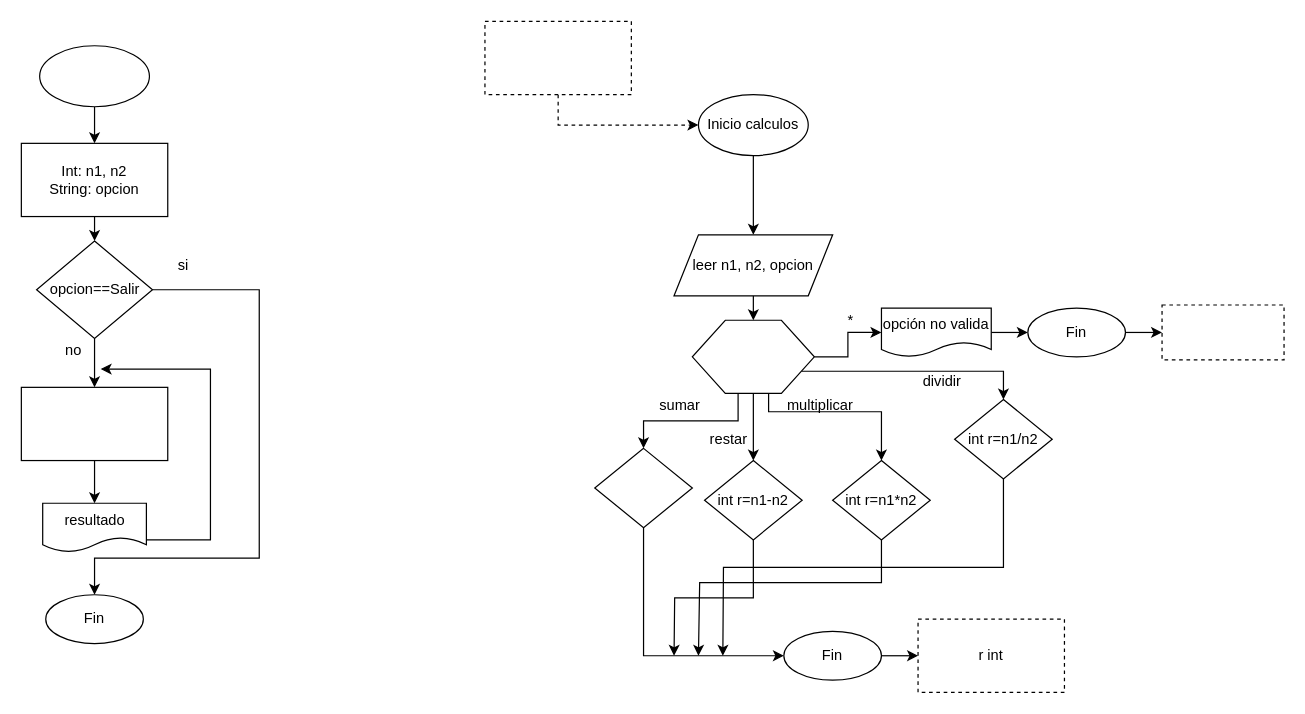
This 1305x714 diagram has some shape labels left out. Each missing label, with the box of its shape:
inicio: (38, 45, 149, 107)
int r=n1+n2: (594, 447, 692, 528)
n1, n2, opción: (484, 20, 631, 95)
opcion: (691, 319, 814, 393)
resultado = calculo(n1,n2,opcion): (20, 386, 168, 461)
return error: String: (1161, 304, 1284, 360)
